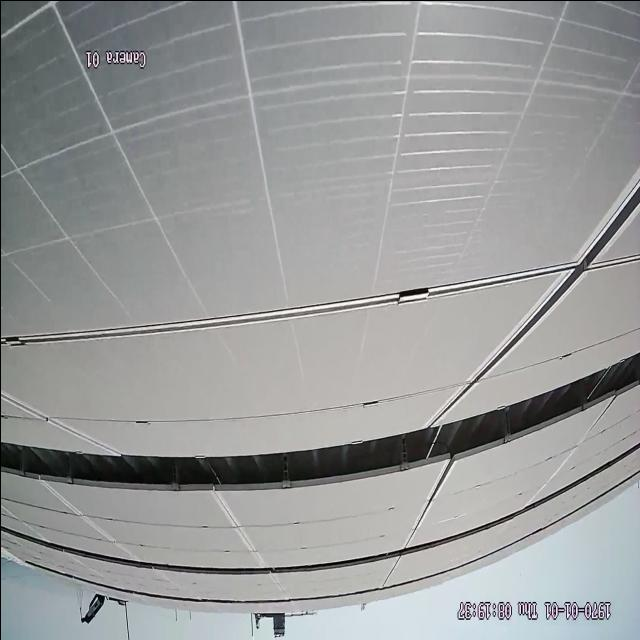interior panel: (13, 155, 640, 412), (527, 405, 610, 499), (34, 487, 136, 552), (2, 395, 118, 448), (399, 466, 454, 541), (207, 497, 266, 558)
outher panel: (1, 353, 640, 494)
